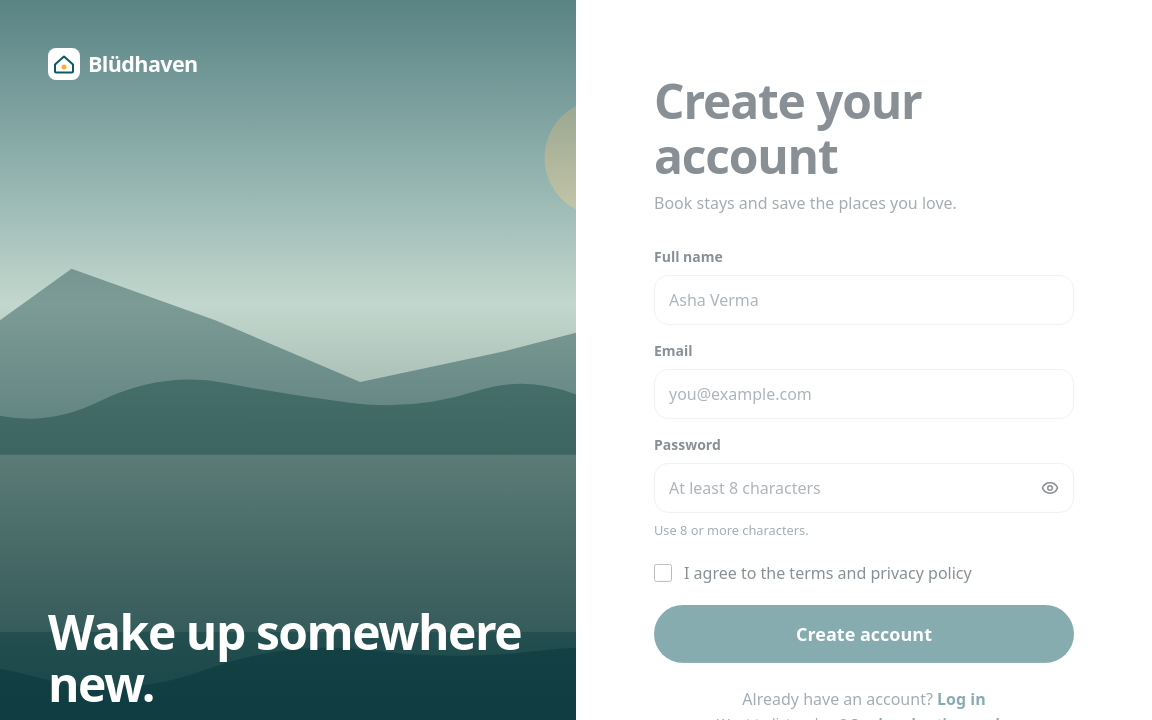
Test case: Guest sign-up › asks the new guest to verify their email and does not sign them in
Type "Ada Guest" into the field labelled "Full name".
click(864, 300); type("Ada Guest")  # box [654, 275, 1074, 325]
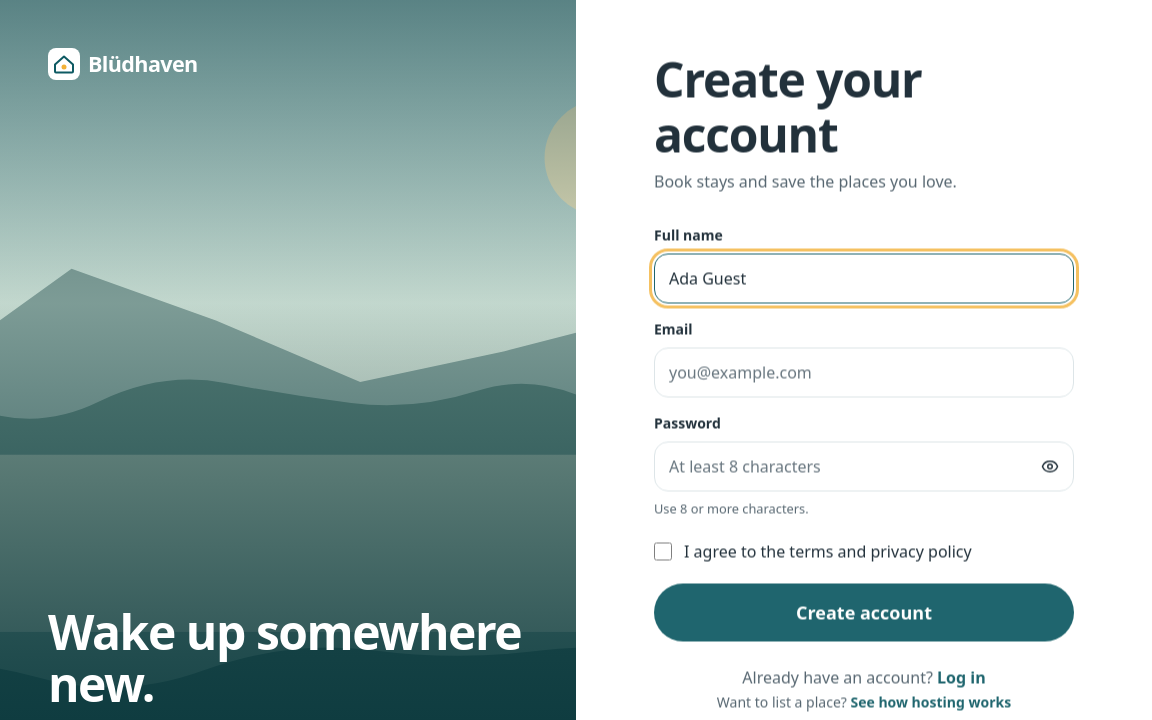
Type "ada@example.com" into the field labelled "Email".
click(864, 373); type("ada@example.com")  # box [654, 348, 1074, 398]
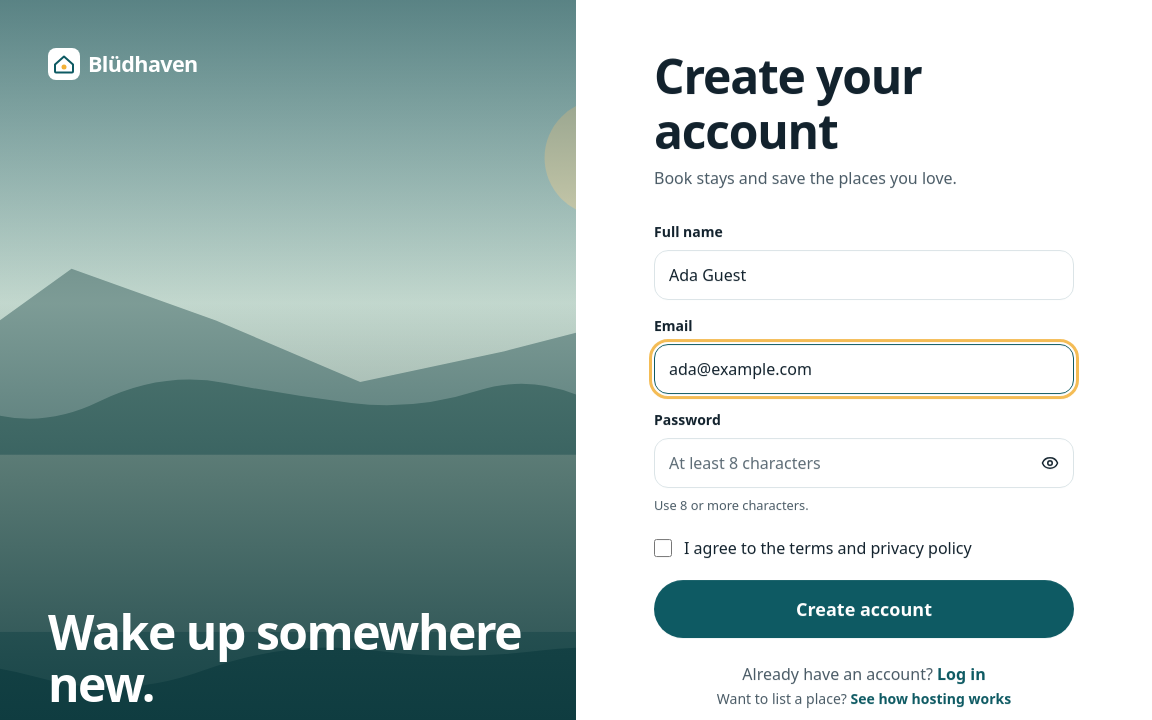
Type "Secret-pass-123" into the password field labelled "Password".
click(864, 463); type("Secret-pass-123")  # box [654, 438, 1074, 488]
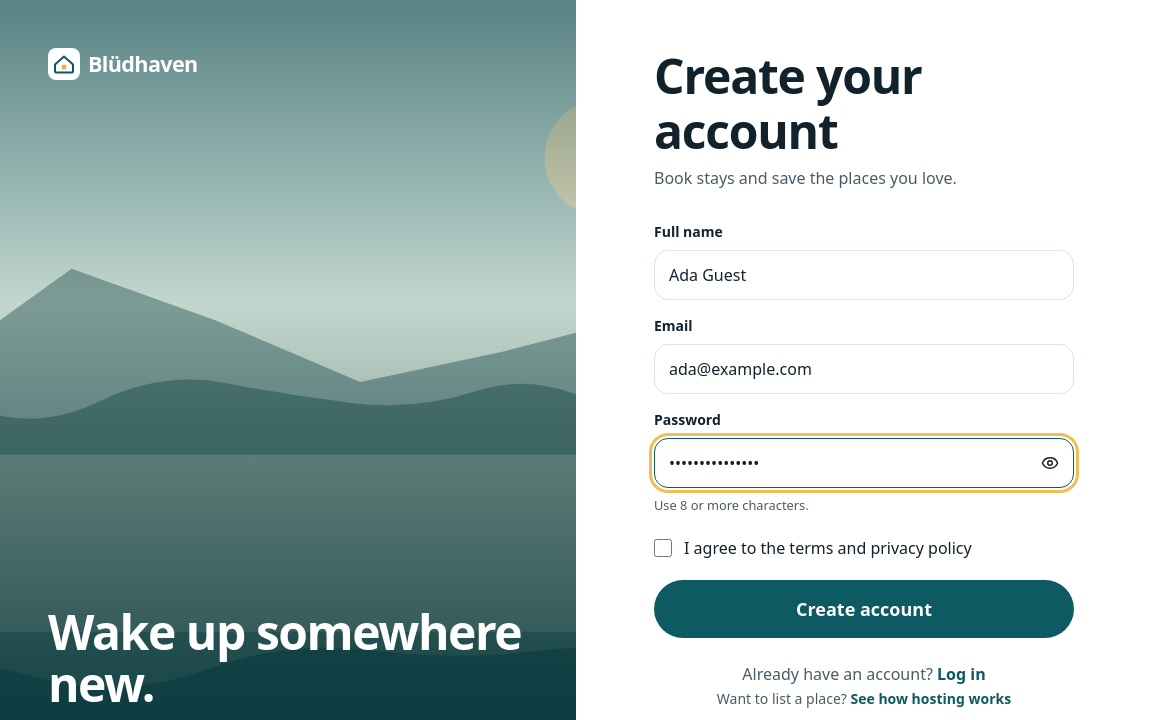
Click the checkbox.
click(663, 548)  # box [654, 539, 672, 557]
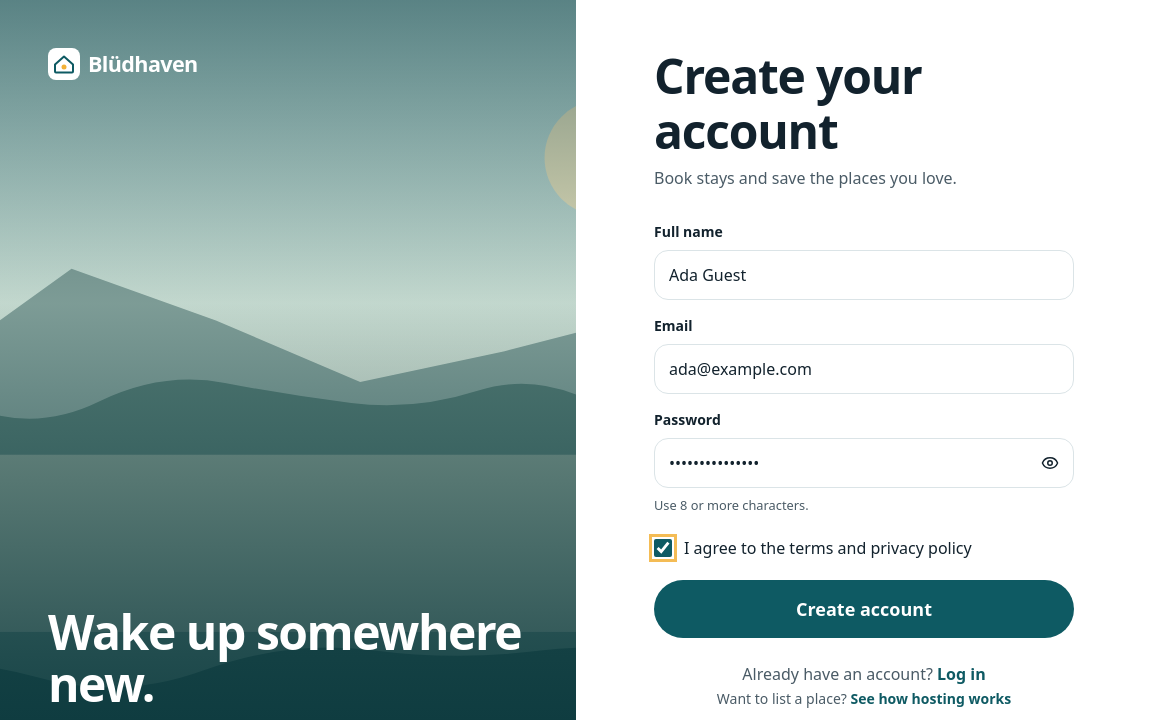
Click the button "Create account".
click(864, 609)  # box [654, 580, 1074, 638]
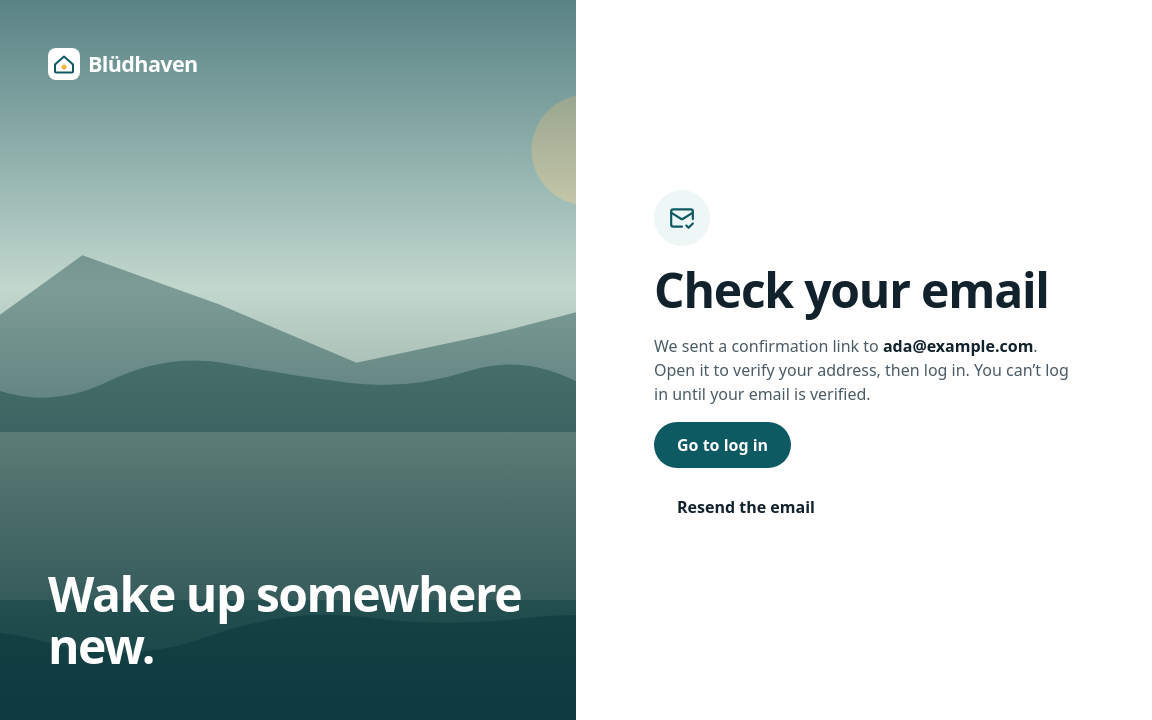
Now the heading "Check your email" is shown, box [654, 262, 1049, 318]
Now the text "ada@example.com" is shown, box [883, 335, 1033, 357]
